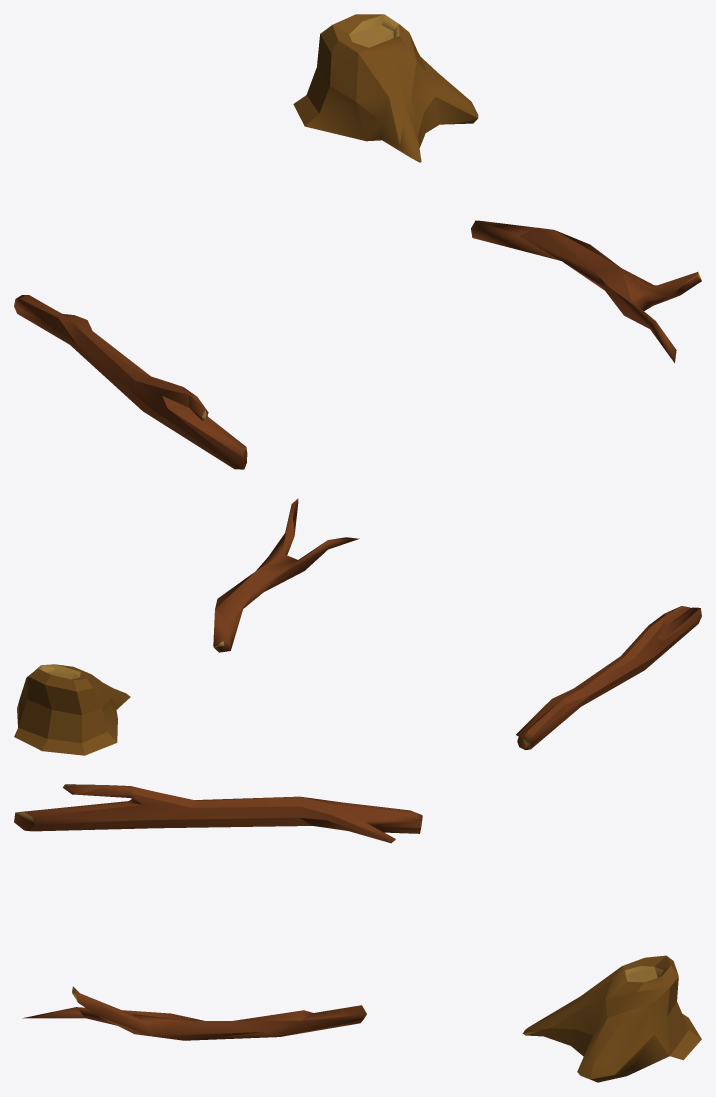
File: Tree.fbx
3 views of the same model, one above another, from view 1: azimuth 30°, elevation 25°; view 2: azimuth 150°, elevation 25°; view 3: azimuth 270°, elevation 25° (orthographic). The views are drawn at different scales.
Parts seen in each view (by area): view 1: Log_3, Log_1, Log_2; view 2: Log_3, Log_1, Log_2; view 3: Log_3, Log_1, Log_2.
Part boxes in pixels (x1=…): Log_3: x1=293, y1=14, x2=478, y2=162; Log_1: x1=14, y1=295, x2=247, y2=469; Log_2: x1=471, y1=220, x2=701, y2=363; Log_3: x1=14, y1=664, x2=130, y2=755; Log_1: x1=516, y1=606, x2=701, y2=750; Log_2: x1=213, y1=498, x2=359, y2=652; Log_3: x1=522, y1=955, x2=701, y2=1082; Log_1: x1=14, y1=784, x2=422, y2=843; Log_2: x1=22, y1=986, x2=366, y2=1040.
Size of the model in its own units: 666 by 105 by 770.
